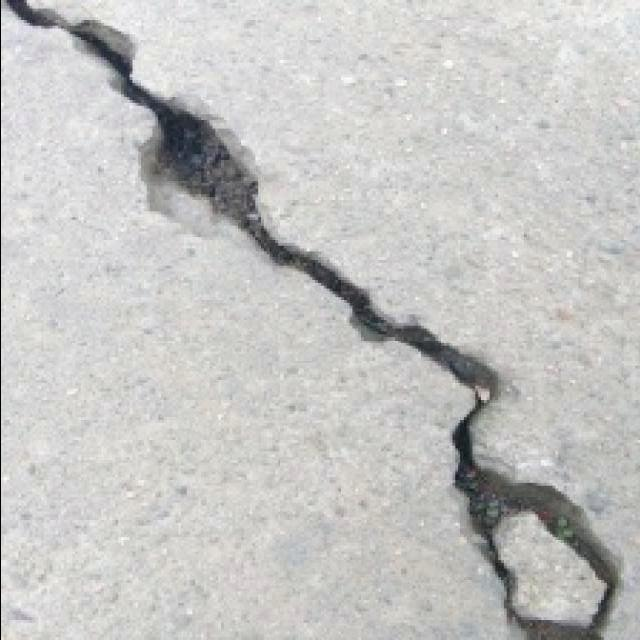SurfaceCrack: (30, 0, 626, 628)
